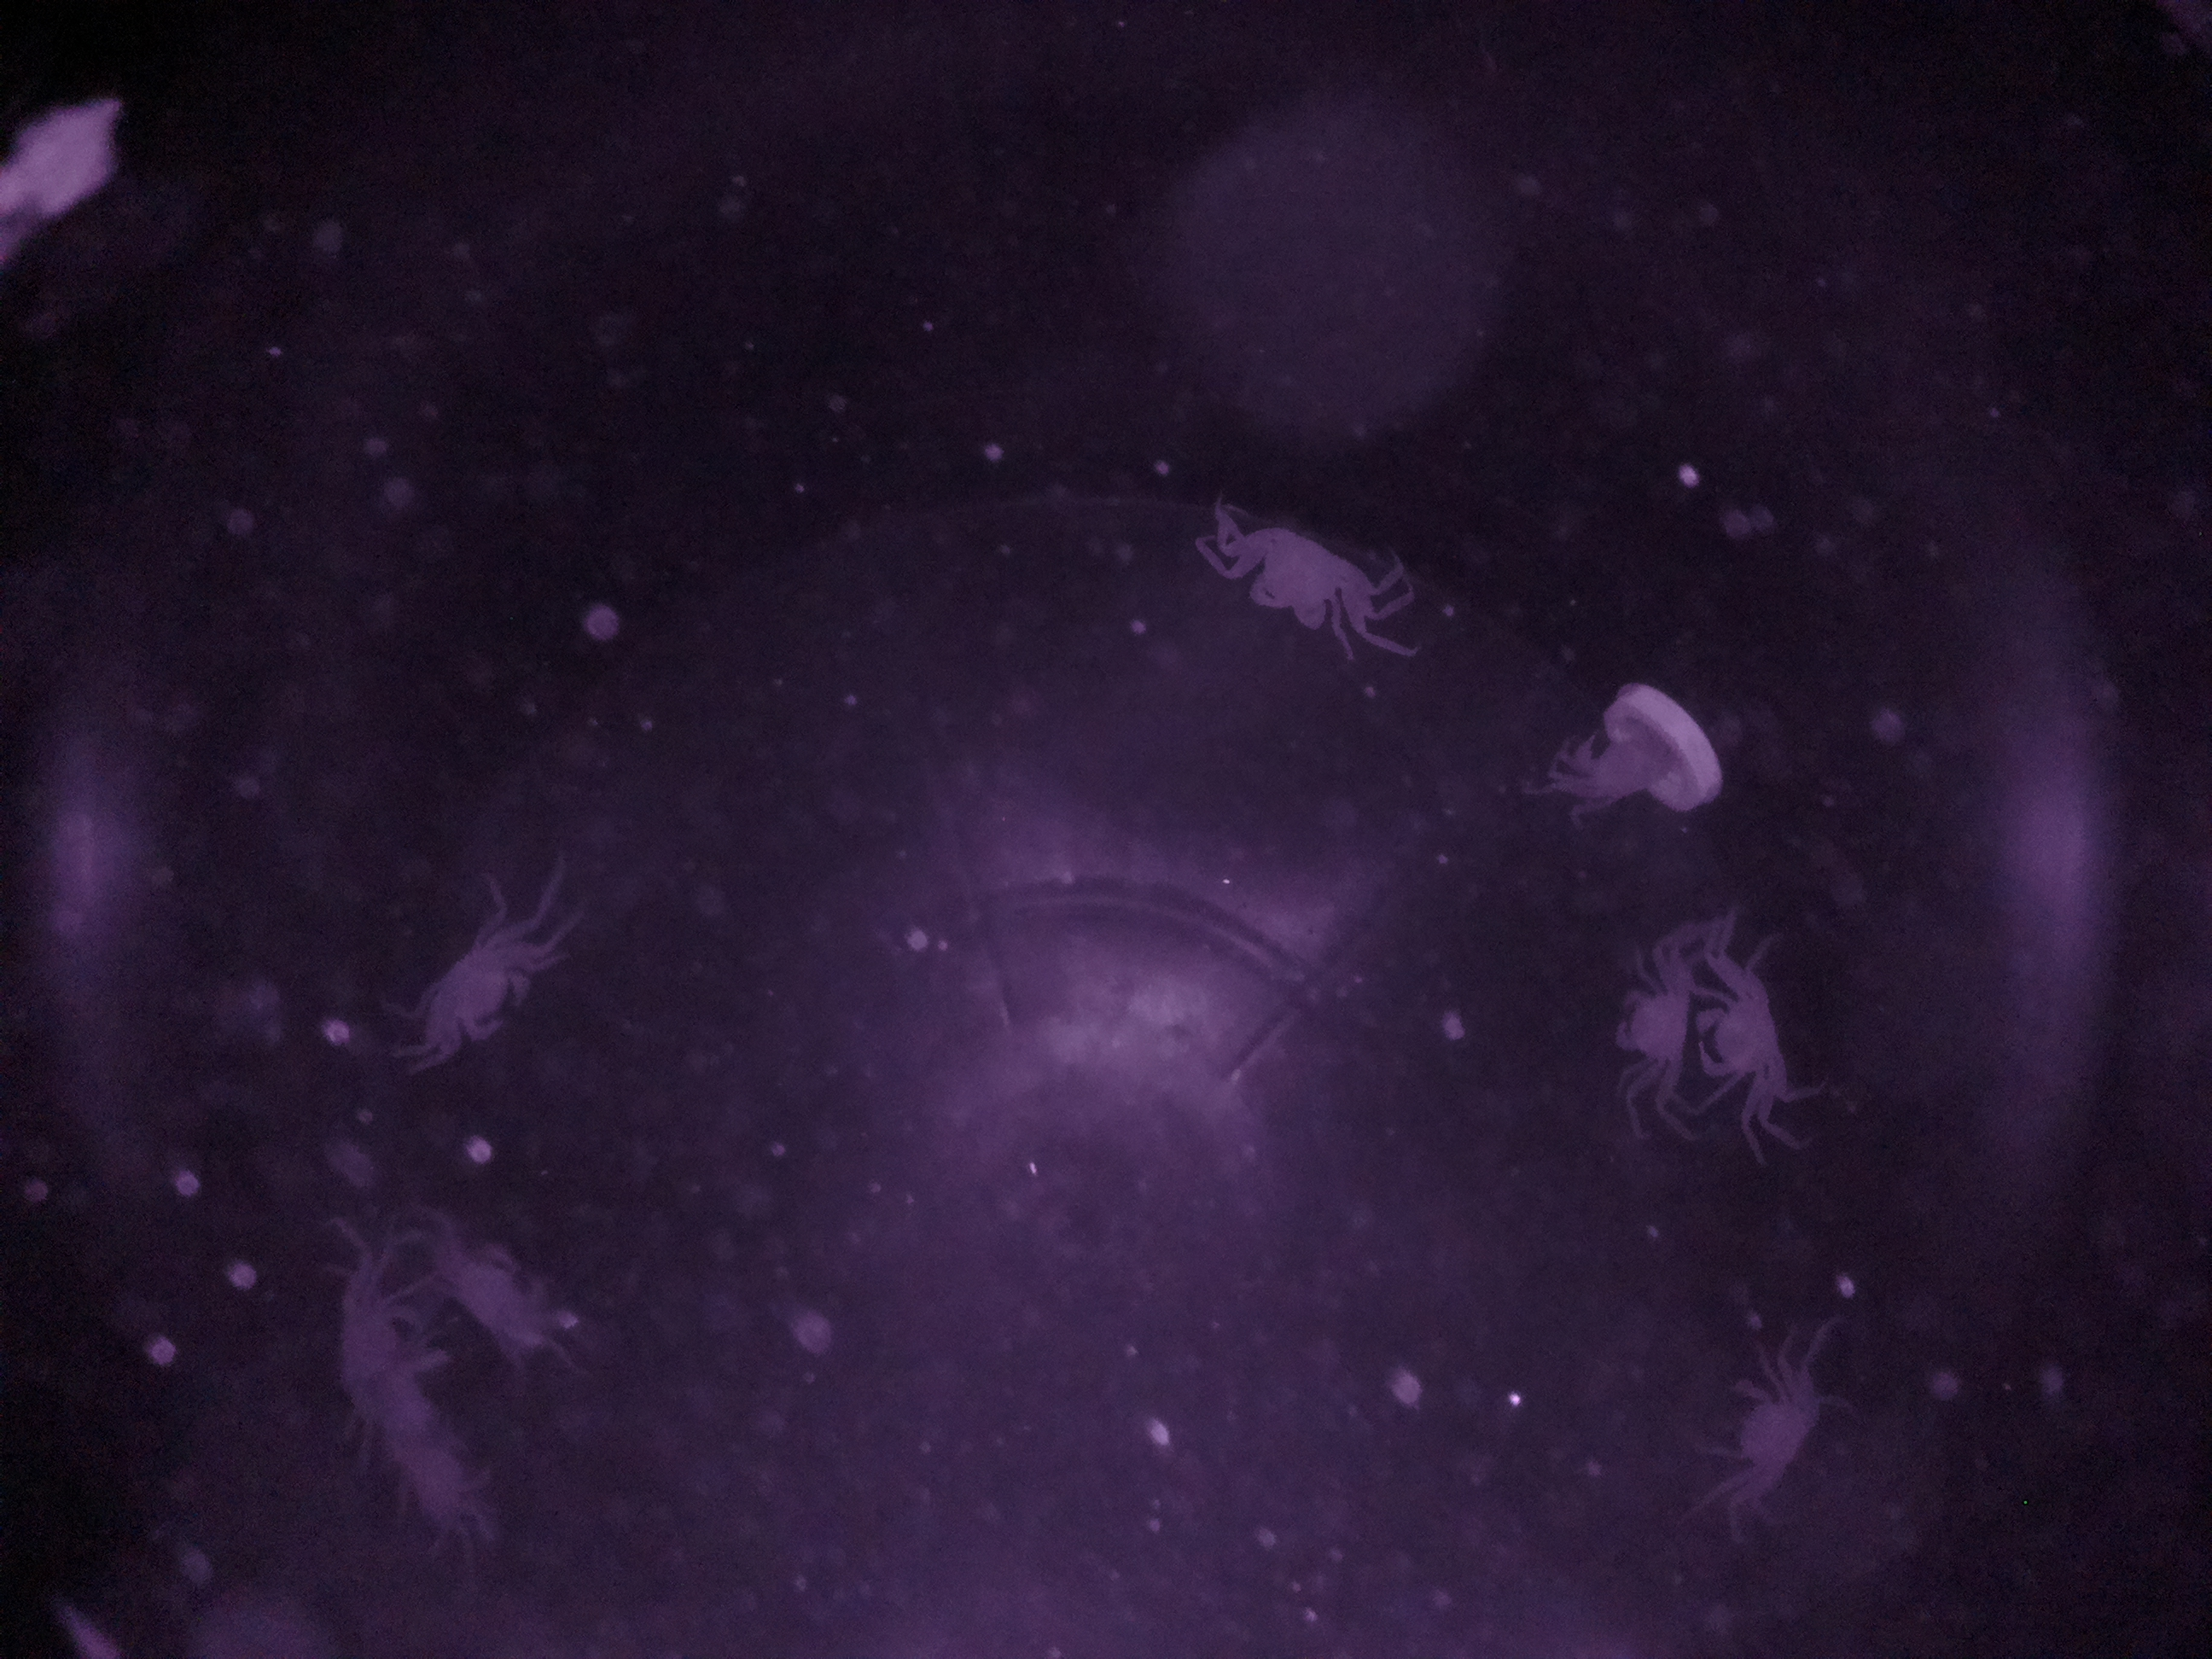Crab: (1188, 491, 1407, 669), (1672, 1333, 1855, 1534), (1691, 922, 1822, 1161), (413, 892, 554, 1082), (1606, 911, 1686, 1126)
